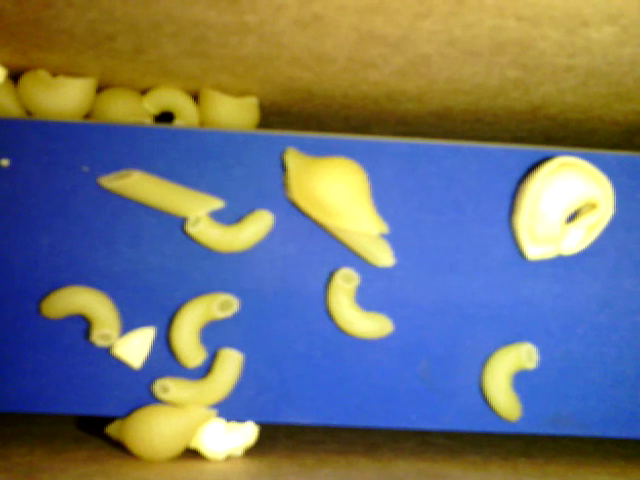elbow: (153, 348, 246, 407), (169, 291, 240, 368), (325, 266, 397, 339), (41, 284, 122, 348), (479, 340, 540, 422), (183, 207, 275, 251), (142, 82, 201, 127)
penne: (283, 175, 400, 271), (97, 168, 226, 216)
shell: (280, 144, 391, 237), (105, 401, 219, 462), (16, 68, 95, 122), (196, 83, 260, 130), (89, 84, 157, 126)
tortellini: (509, 153, 618, 262)
